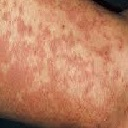Hives: (12, 16, 101, 100)
